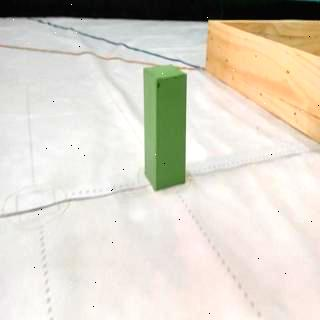greenbox: (142, 64, 189, 194)
